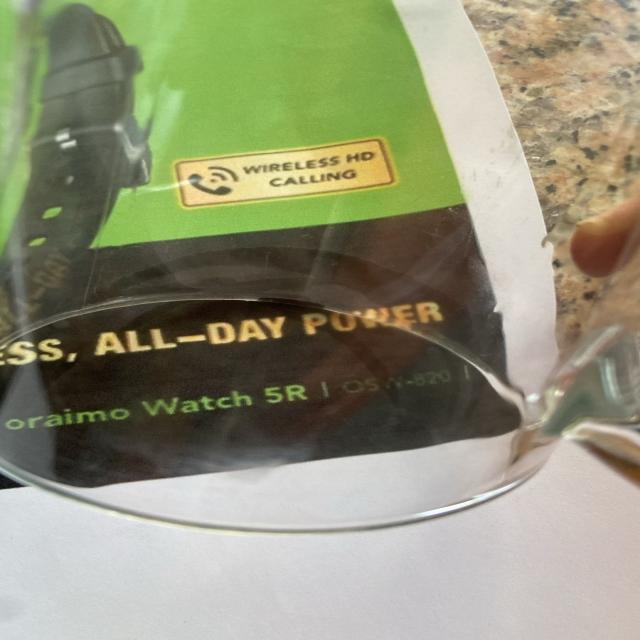Oraimo Watch 5R OSW-820: (3, 361, 476, 438)
